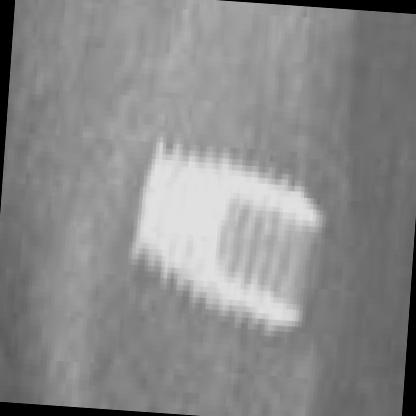Bicon: (126, 122, 326, 338)
